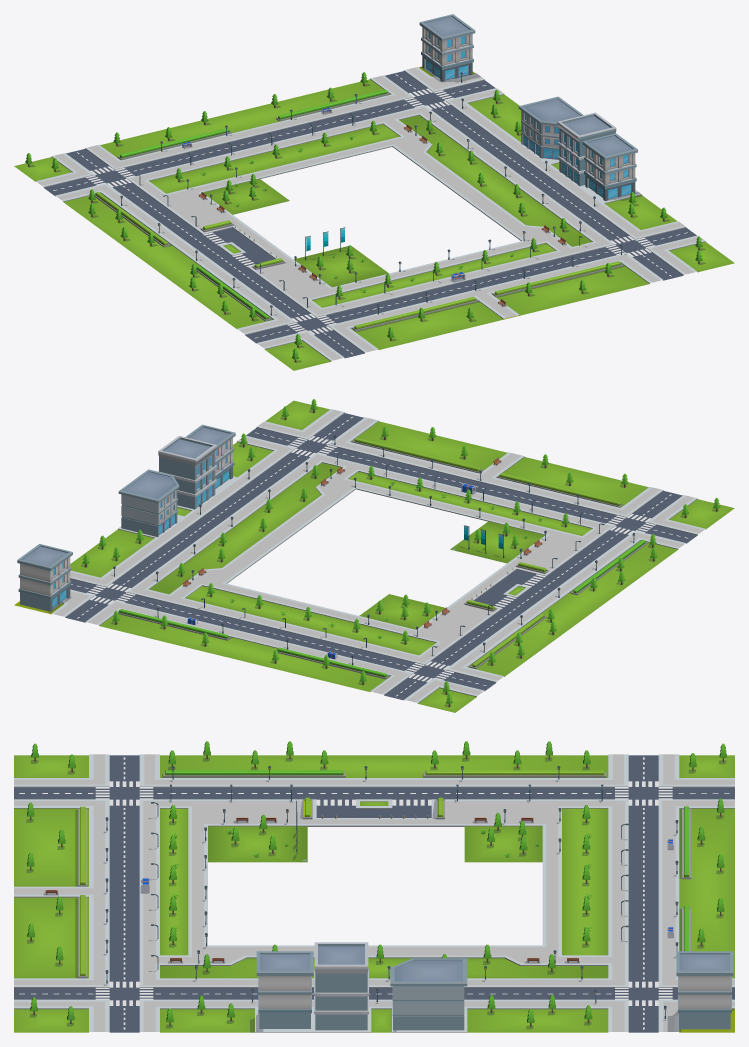
Rendered from SI2_Env.fbx.
3 renders of one model, top to bottom at view 1: azimuth 30°, elevation 25°; view 2: azimuth 150°, elevation 25°; view 3: azimuth 270°, elevation 25°, orthographic. The views are drawn at different scales.
Visible parts, largest first — view 1: SI_Env; view 2: SI_Env; view 3: SI_Env.
Boxes of the visible parts, x1,y1,x2,y2 form: SI_Env: [14, 14, 734, 370]; SI_Env: [14, 399, 734, 712]; SI_Env: [14, 741, 734, 1032].
Size of the model in its own units: 272 by 29.99 by 299.
